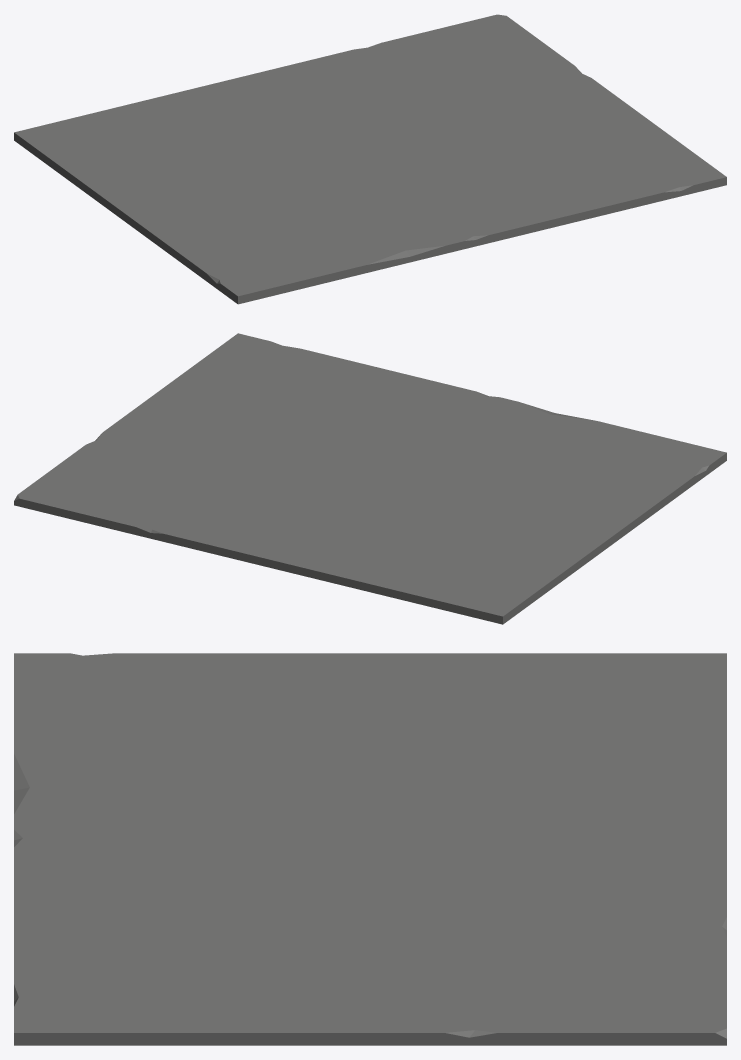
File: SM_Bld_Shop_Concrete_01.fbx
The picture shows the model from 3 angles, top to bottom: view 1: azimuth 30°, elevation 25°; view 2: azimuth 150°, elevation 25°; view 3: azimuth 270°, elevation 25°; orthographic projection. The views are drawn at different scales.
Parts seen in each view (by area): view 1: SM_Bld_Shop_Concrete_01; view 2: SM_Bld_Shop_Concrete_01; view 3: SM_Bld_Shop_Concrete_01.
Boxes of the visible parts, <box> form: SM_Bld_Shop_Concrete_01: <box>14,14,726,304</box>; SM_Bld_Shop_Concrete_01: <box>14,333,726,624</box>; SM_Bld_Shop_Concrete_01: <box>14,653,726,1045</box>.
Bounding box in the file's own units: 1021 × 16.18 × 810.
